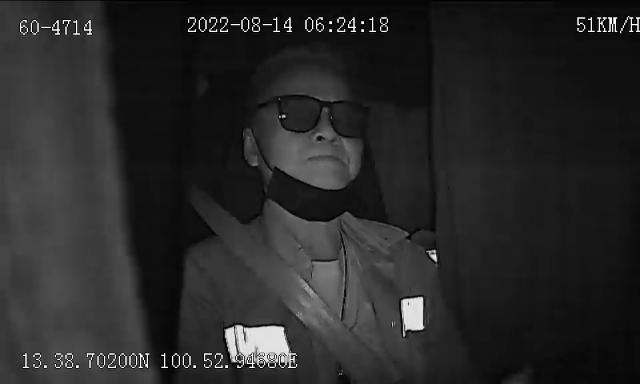Seatbelt: (215, 208, 382, 384)
